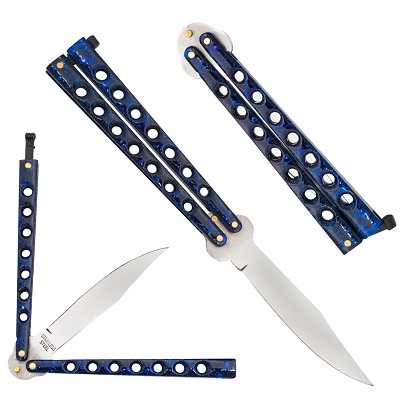knife: (42, 32, 374, 392), (7, 126, 241, 391), (173, 18, 395, 257)
